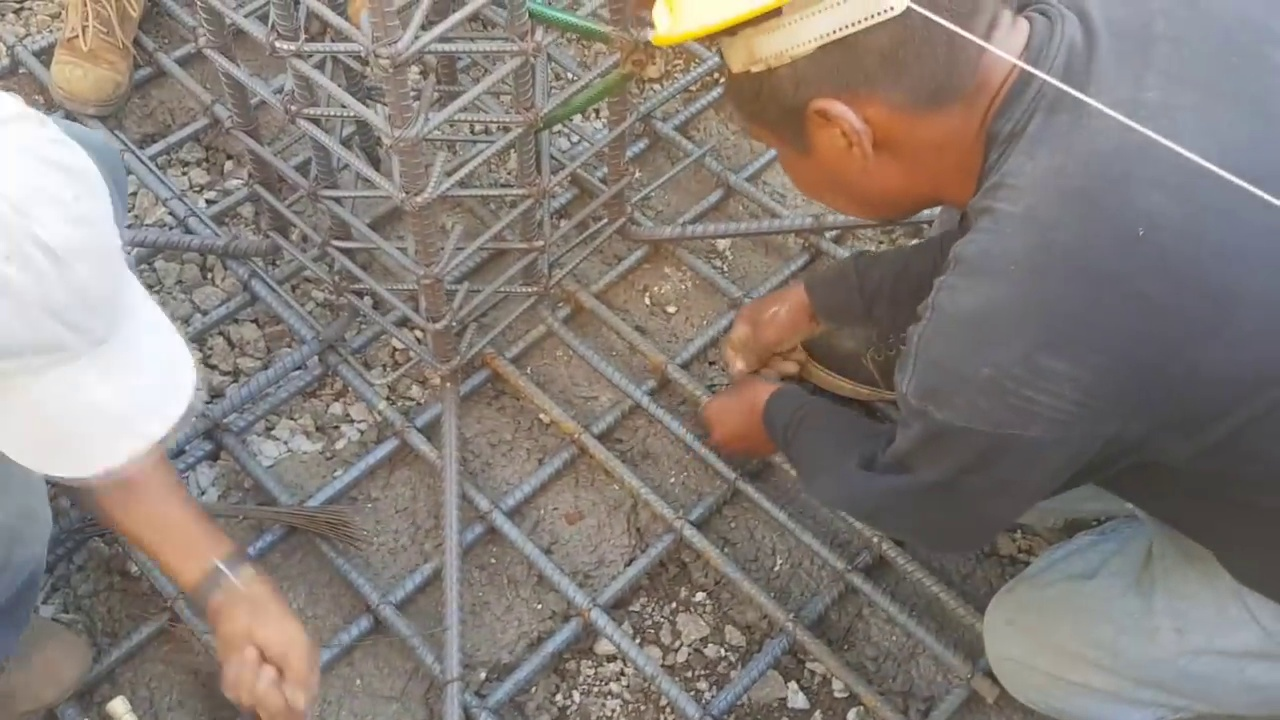helmet-off: (644, 0, 1046, 227), (1, 91, 200, 484)
person: (648, 5, 1280, 717), (0, 0, 320, 720)
